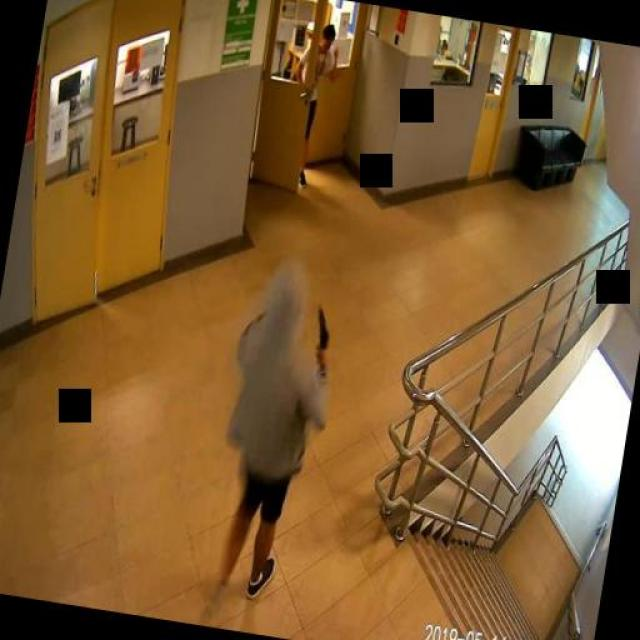gun: (309, 303, 331, 357)
